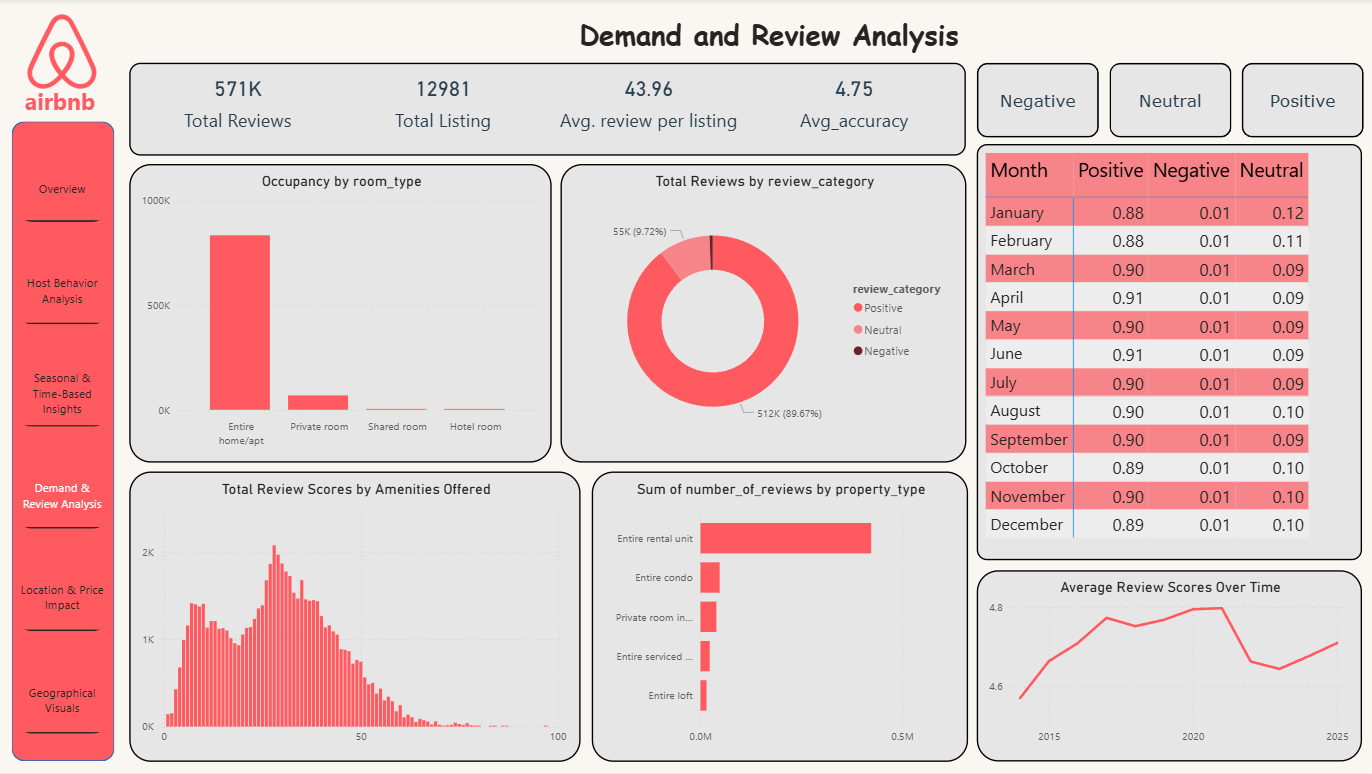

The dashboard page shown, as its layout file describes it:
{"tool":"powerbi","page":{"name":"Demand & Review Analysis","canvas":[1600,900],"ordinal":3},"visuals":[{"type":"pivotTable","title":"Review Sentiment Trends by Month","fields":{"Rows":["cleaned_reviews_data.date.Variation.Date Hierarchy.Month"],"Values":["Measures (2).% of Positive Review","Measures (2).% of Negative Review","Measures (2).% of Neutral Review"]},"box":[1138.1,168.6,447.7,484],"z":0},{"type":"barChart","fields":{"Category":["cleaned_Listings_data.property_type"],"Y":["Sum(cleaned_Listings_data.number_of_reviews)"]},"box":[690.4,549.4,437.5,337.2],"z":1000},{"type":"lineChart","title":"Average Review Scores Over Time","fields":{"Category":["cleaned_Listings_data.last_review.Variation.Date Hierarchy.Year","cleaned_Listings_data.last_review.Variation.Date Hierarchy.Quarter","cleaned_Listings_data.last_review.Variation.Date Hierarchy.Month","cleaned_Listings_data.last_review.Variation.Date Hierarchy.Day"],"Y":["Measures (2).Avg. Review Score Rating"]},"box":[1138.1,664.2,447.7,222.4],"z":2000},{"type":"clusteredColumnChart","title":"Total Review Scores by Amenities Offered","fields":{"Y":["Sum(cleaned_Listings_data.review_scores_rating)"],"Category":["cleaned_Listings_data.Amenities_count"]},"box":[152.6,549.4,524.7,337.2],"z":3000},{"type":"columnChart","title":"Occupancy by room_type","fields":{"Category":["cleaned_Listings_data.room_type"],"Y":["Sum(cleaned_Listings_data.estimated_occupancy_l365d)"]},"box":[152.6,191.9,491.3,347.4],"z":4000},{"type":"donutChart","fields":{"Y":["Measures (2).Total Reviews"],"Category":["cleaned_reviews_data.review_category"]},"box":[654.1,191.9,472.4,347.4],"z":5000},{"type":"advancedSlicerVisual","fields":{"Values":["cleaned_reviews_data.review_category"]},"box":[1138.6,73.9,451.8,87.1],"z":6000},{"type":"shape","box":[16.3,142.2,119.3,743.7],"z":7000},{"type":"textbox","box":[5.7,96.5,132.5,45.4],"z":8000},{"type":"image","box":[8.2,13.1,130.8,96.4],"z":9000},{"type":"cardVisual","fields":{"Data":["Measures (2).Total Reviews","Measures (2).Total Listing","Measures (2).Avg. review per listing","Measures (2).Avg_accuracy"]},"box":[153.3,73.8,972.9,107.9],"z":10000},{"type":"textbox","box":[193.1,13.2,1406.3,56.8],"z":11000},{"type":"pageNavigator","box":[20.8,179.8,109.8,679.5],"z":12000}]}

Visuals, with their boxes in screenshot pixels (x1, y1, x2, y2), scaled from the page's 1600x900 canvas onto the 1372x774 screenshot:
"Review Sentiment Trends by Month" pivotTable: {"x1": 976, "y1": 145, "x2": 1360, "y2": 561}
barChart - cleaned_Listings_data.property_type x Sum(cleaned_Listings_data.number_of_reviews): {"x1": 592, "y1": 472, "x2": 967, "y2": 762}
"Average Review Scores Over Time" lineChart: {"x1": 976, "y1": 571, "x2": 1360, "y2": 762}
"Total Review Scores by Amenities Offered" clusteredColumnChart: {"x1": 131, "y1": 472, "x2": 581, "y2": 762}
"Occupancy by room_type" columnChart: {"x1": 131, "y1": 165, "x2": 552, "y2": 464}
donutChart - Measures (2).Total Reviews x cleaned_reviews_data.review_category: {"x1": 561, "y1": 165, "x2": 966, "y2": 464}
advancedSlicerVisual - cleaned_reviews_data.review_category: {"x1": 976, "y1": 64, "x2": 1364, "y2": 138}
shape: {"x1": 14, "y1": 122, "x2": 116, "y2": 762}
textbox: {"x1": 5, "y1": 83, "x2": 119, "y2": 122}
image: {"x1": 7, "y1": 11, "x2": 119, "y2": 94}
cardVisual - Measures (2).Total Reviews x Measures (2).Total Listing: {"x1": 131, "y1": 63, "x2": 966, "y2": 156}
textbox: {"x1": 166, "y1": 11, "x2": 1371, "y2": 60}
pageNavigator: {"x1": 18, "y1": 155, "x2": 112, "y2": 739}
